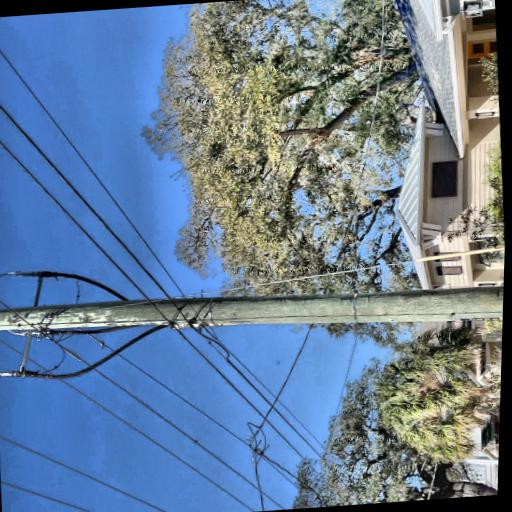pole: (0, 11, 112, 512)
